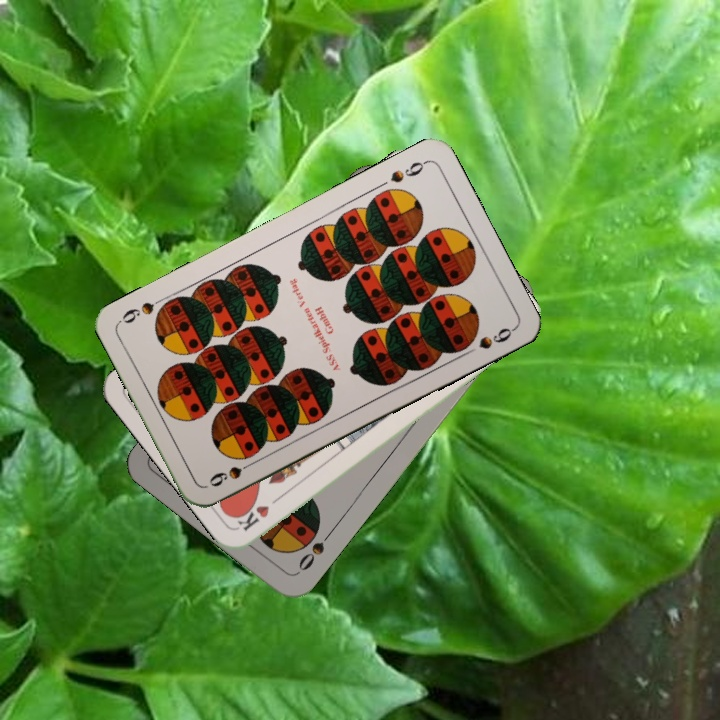HK: (234, 489, 287, 534)
S9: (204, 456, 259, 490), (386, 156, 430, 186)
SO: (294, 527, 335, 574)
